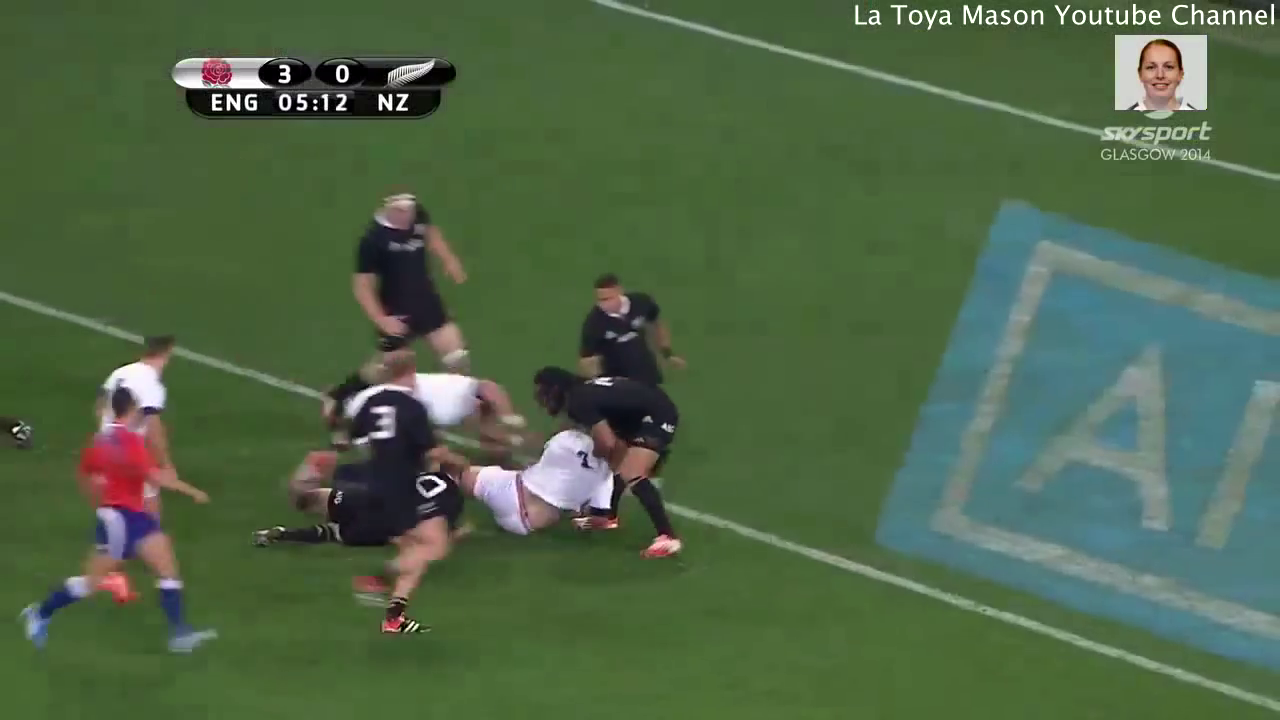player: (1, 383, 221, 657), (524, 352, 706, 581), (346, 344, 462, 643), (344, 182, 489, 376), (546, 258, 709, 417), (452, 404, 625, 542), (319, 350, 538, 447), (63, 320, 198, 444)
